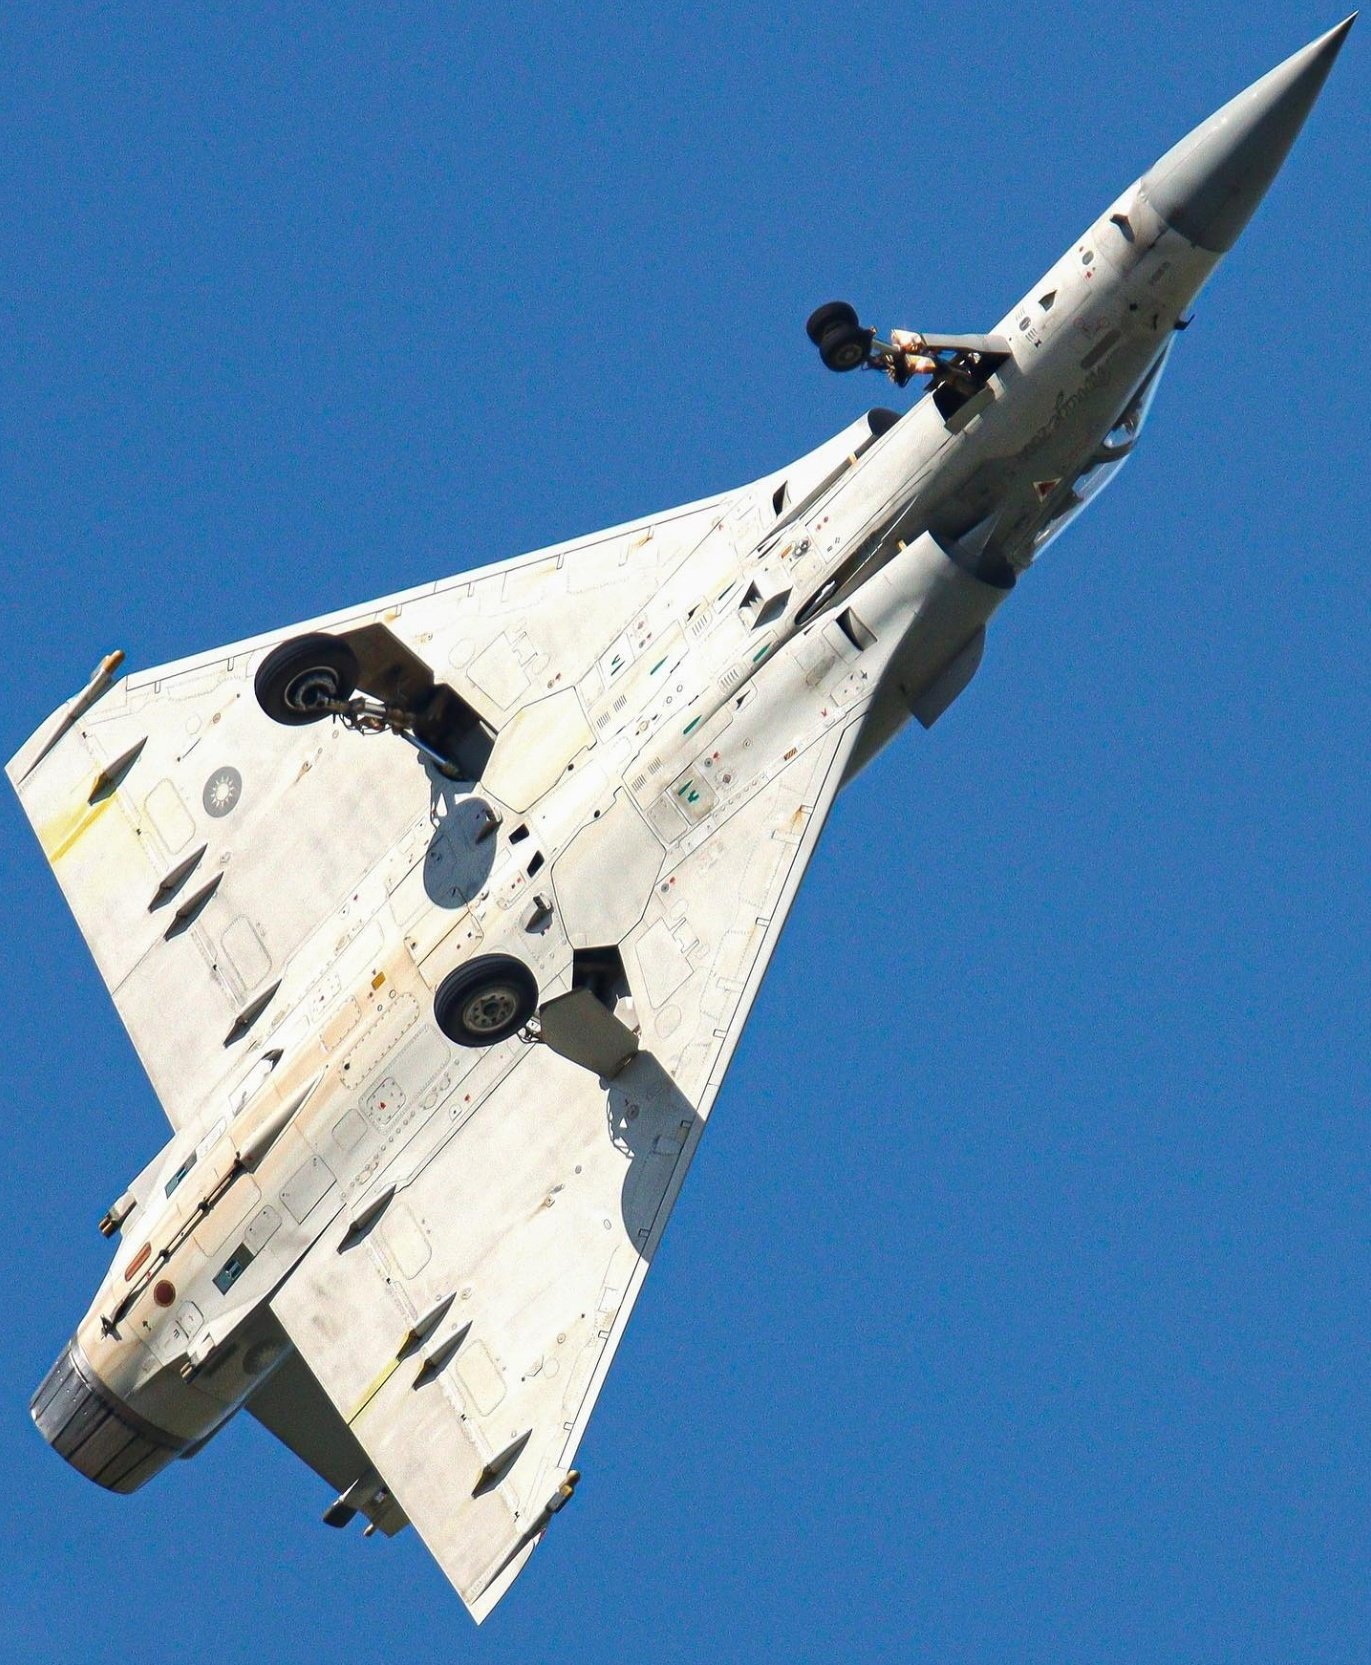Mirage2000: (4, 10, 1359, 1628)
